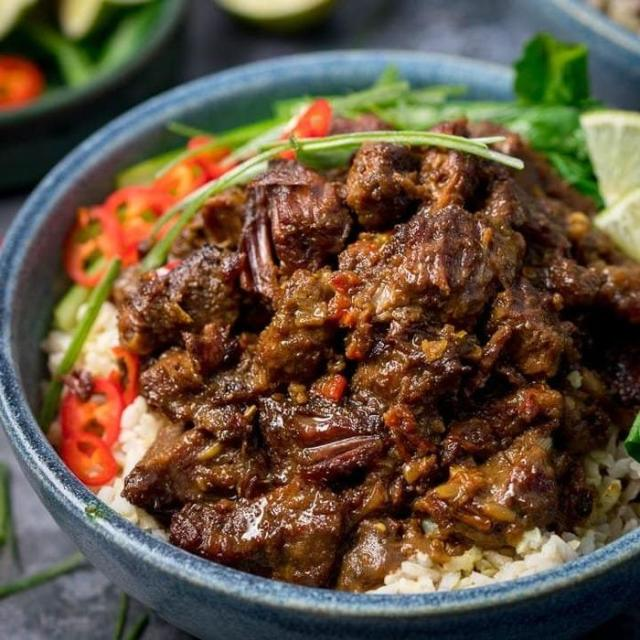Rendang: (136, 140, 640, 585)
